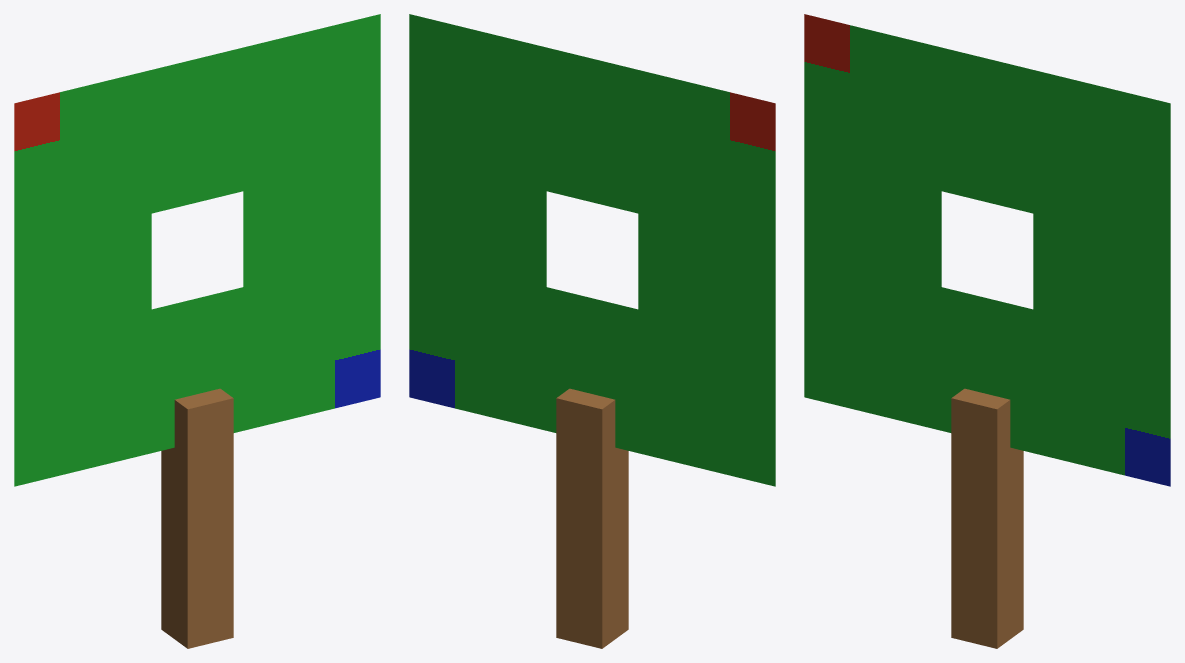
Rendered from tree.glb.
The picture shows the model from 3 angles, left to right: view 1: azimuth 30°, elevation 25°; view 2: azimuth 150°, elevation 25°; view 3: azimuth 330°, elevation 25°; orthographic projection.
Size of the model in its own units: 64 by 96 by 8.
Materials: 2 (1 with a texture image).
